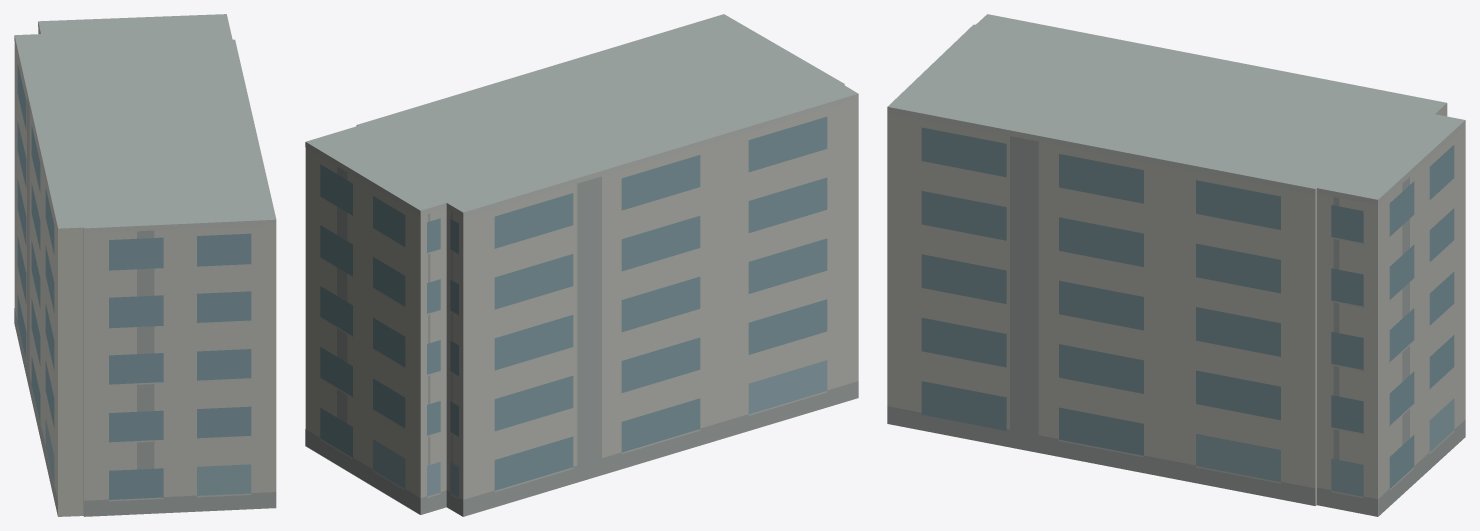
The model's file is survey-upis-32669705.glb.
3 views of the same model, side by side, from view 1: azimuth 30°, elevation 25°; view 2: azimuth 150°, elevation 25°; view 3: azimuth 270°, elevation 25° (orthographic). The views are drawn at different scales.
Visible parts, largest first — view 1: survey-upis-32669705.tmp; view 2: survey-upis-32669705.tmp; view 3: survey-upis-32669705.tmp.
Part boxes in pixels (x1,y1,x2,y2): survey-upis-32669705.tmp: [14, 14, 276, 516]; survey-upis-32669705.tmp: [305, 14, 858, 516]; survey-upis-32669705.tmp: [887, 14, 1465, 516].
Bounding box in the file's own units: 16.8 × 13.36 × 22.09.
